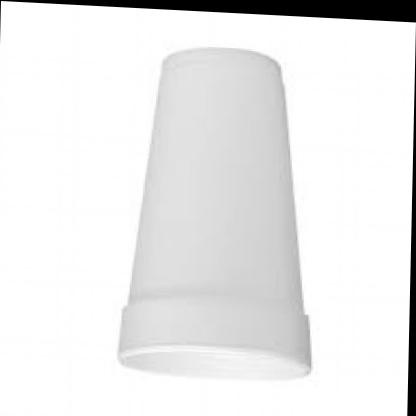trash: (119, 48, 309, 378)
